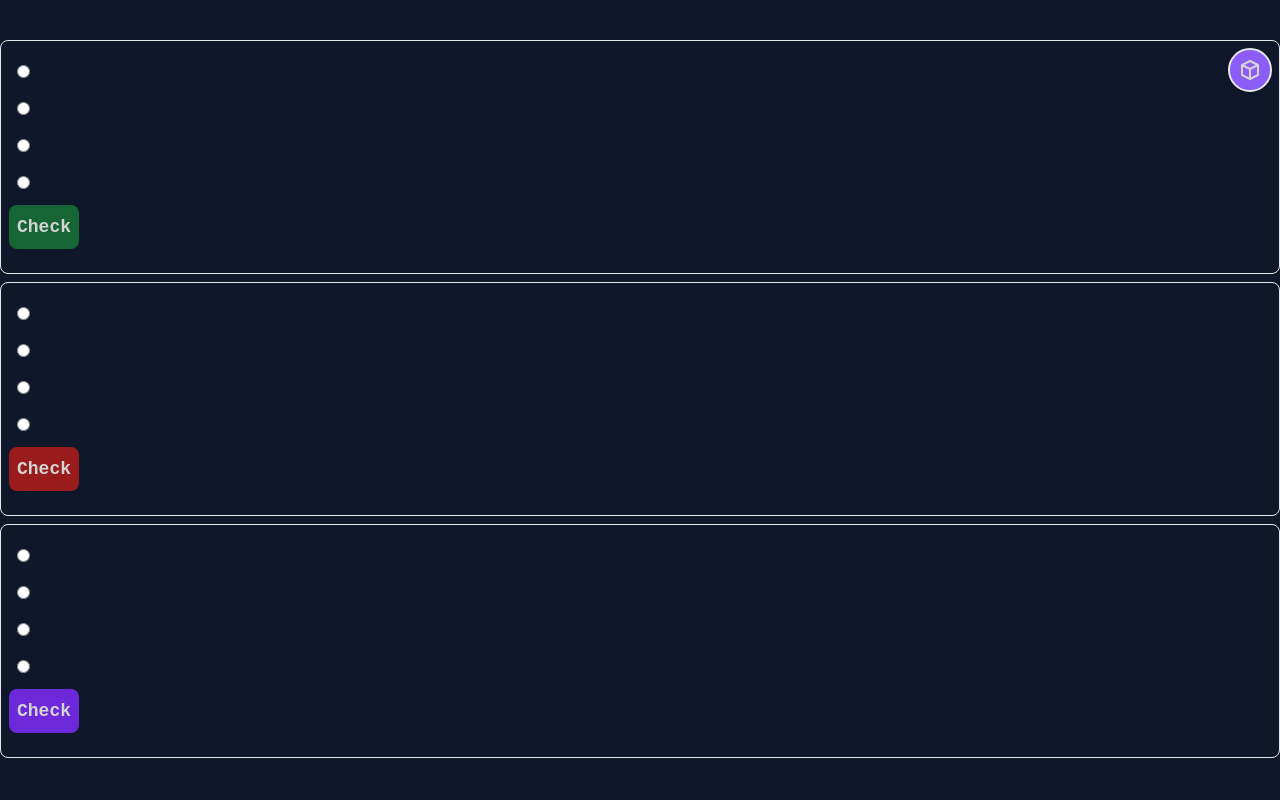
Test: Practices Component › Information Panel › should display result visualization if there is question answered
Click the element with test id "action-button". click: (1250, 70)
box: [1228,48,1272,92]
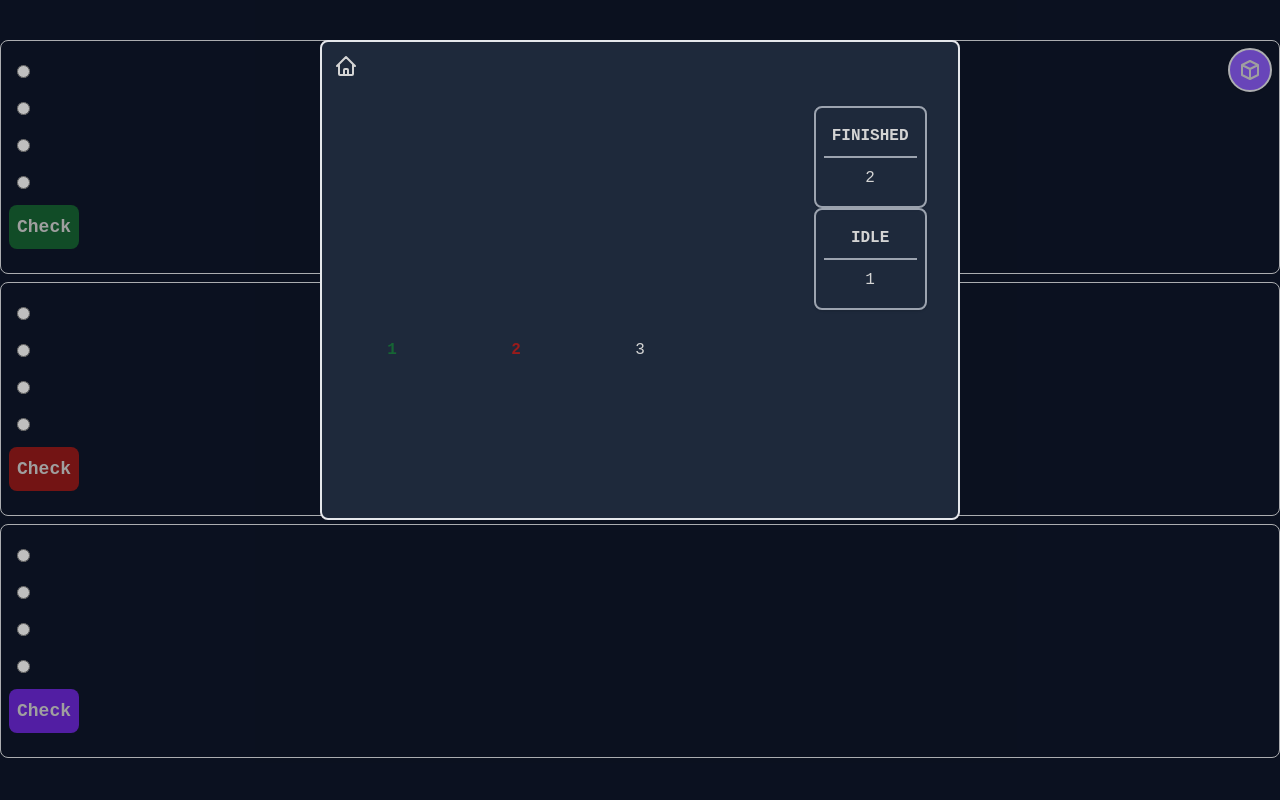
Result: the element with test id "information-panel" is shown at [320,40,960,520]
